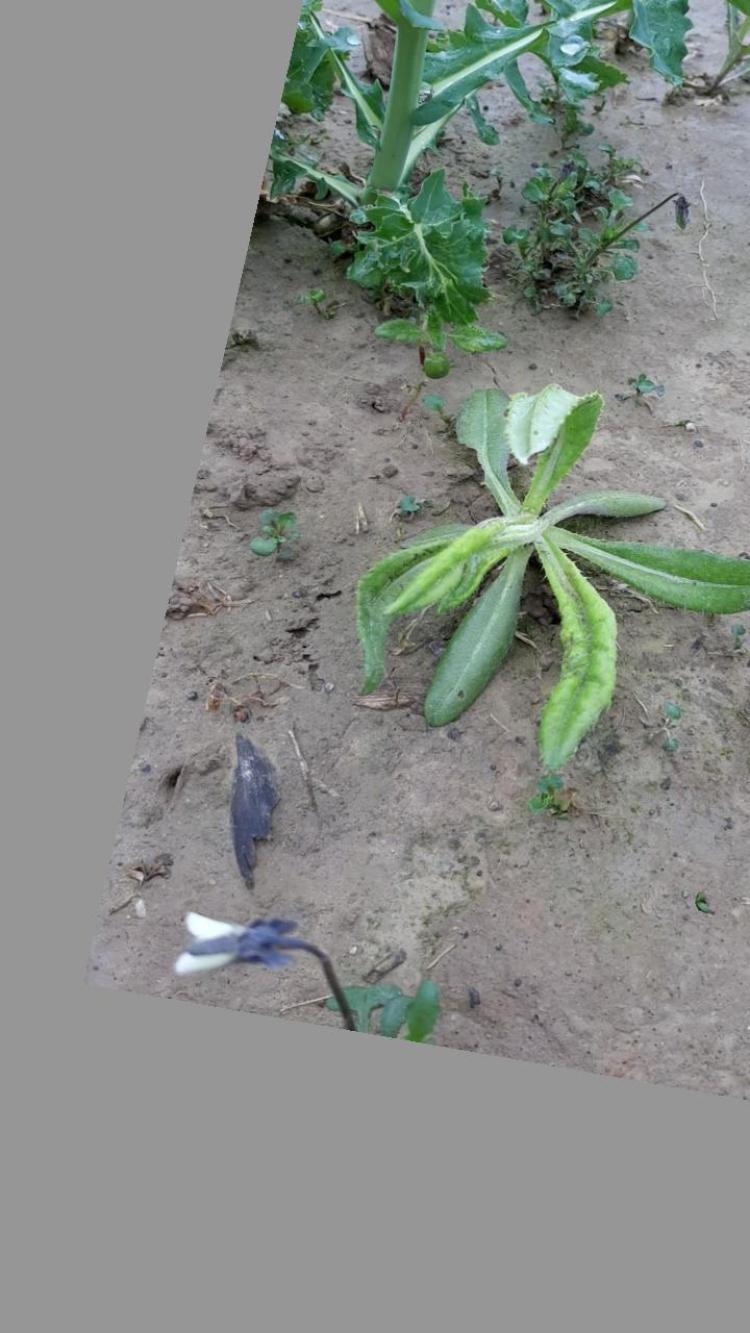osot: (381, 377, 750, 779)
